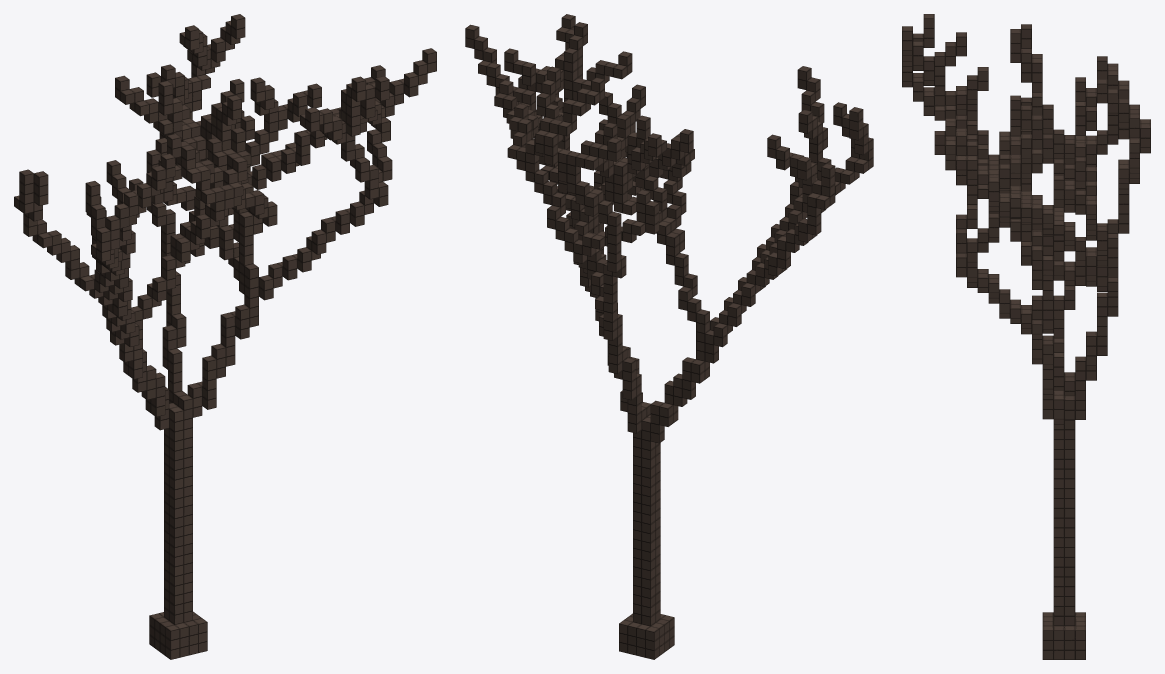
File: outdoor_tree_bare.glb
3 views of the same model, side by side, from view 1: azimuth 30°, elevation 25°; view 2: azimuth 150°, elevation 25°; view 3: azimuth 270°, elevation 25° (orthographic). The views are drawn at different scales.
Visible parts, largest first — view 1: outdoor_tree_bare; view 2: outdoor_tree_bare; view 3: outdoor_tree_bare.
Boxes of the visible parts, x1=… form: outdoor_tree_bare: x1=14, y1=14, x2=436, y2=659; outdoor_tree_bare: x1=465, y1=14, x2=873, y2=659; outdoor_tree_bare: x1=902, y1=14, x2=1150, y2=659.
Bounding box in the file's own units: 2.15 × 3.1 × 1.15.
Materials: 1 (1 with a texture image).
